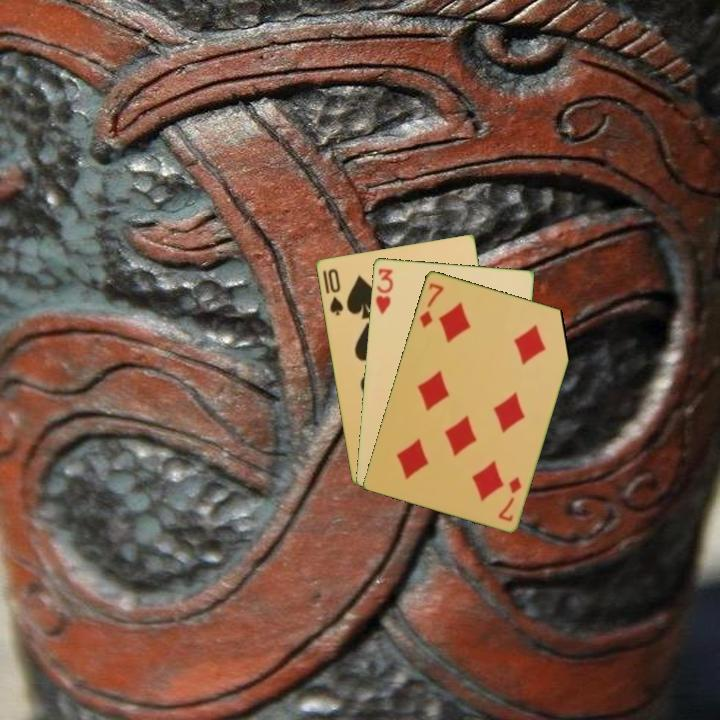10s: (324, 265, 346, 318)
3h: (372, 265, 396, 317)
7d: (416, 279, 446, 330), (494, 473, 524, 524)
